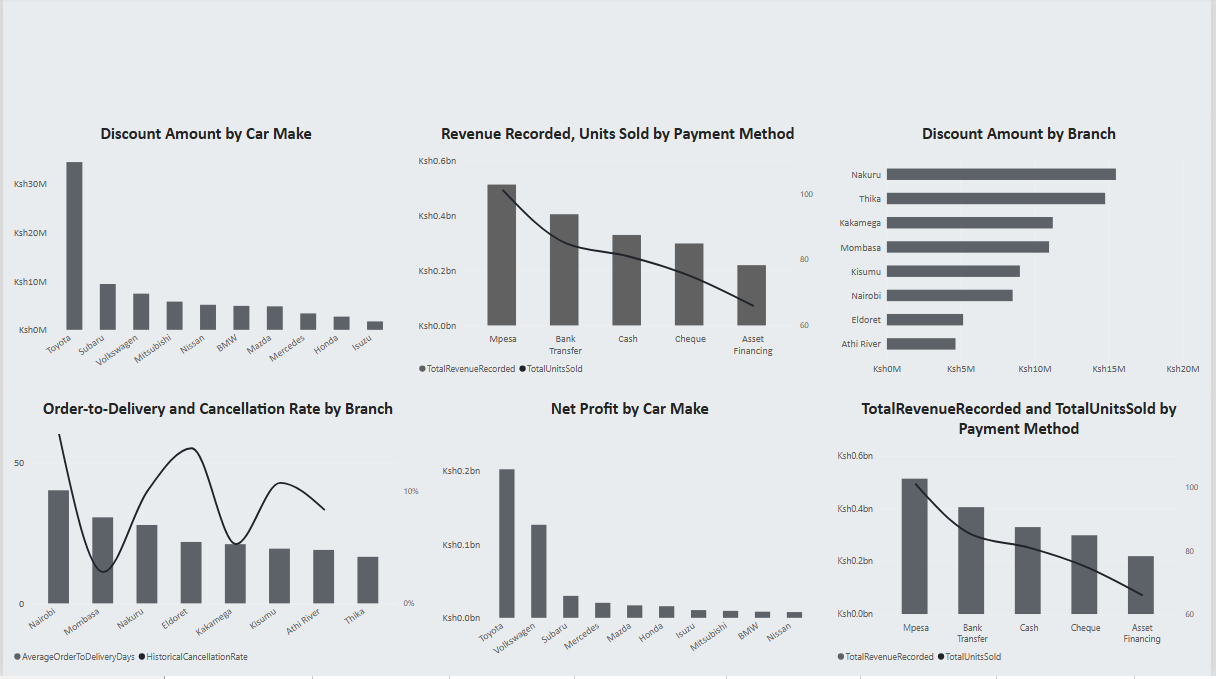

The dashboard page shown, as its layout file describes it:
{"tool":"powerbi","page":{"name":"Insights","canvas":[1920,1080],"ordinal":2},"visuals":[{"type":"clusteredColumnChart","title":"Discount Amount by Car Make","fields":{"Category":["FactOrders.Car Make"],"Y":["Sum(FactOrders.Discount Amount)"]},"box":[0,186.1,644.2,436.6],"z":0},{"type":"clusteredBarChart","title":"Discount Amount by Branch","fields":{"Category":["DimBranches.Branch"],"Y":["Sum(FactOrders.Discount Amount)"]},"box":[1309.9,186.1,610.8,436.6],"z":1000},{"type":"lineClusteredColumnComboChart","fields":{"Category":["FactOrders.Payment Method"],"Y":["FactOrders.TotalRevenueRecorded"],"Y2":["FactOrders.TotalUnitsSold"]},"box":[1309.9,622.7,610.8,458.1],"z":2000},{"type":"lineStackedColumnComboChart","title":"Revenue Recorded, Units Sold by Payment Method","fields":{"Category":["FactOrders.Payment Method"],"Y":["FactOrders.TotalRevenueRecorded"],"Y2":["FactOrders.TotalUnitsSold"]},"box":[644.2,186.1,665.7,436.6],"z":2001},{"type":"lineClusteredColumnComboChart","title":"Order-to-Delivery and Cancellation Rate by Branch","fields":{"Category":["DimBranches.Branch"],"Y":["FactOrders.AverageOrderToDeliveryDays"],"Y2":["FactOrders.HistoricalCancellationRate"]},"box":[0,622.7,682.4,458.1],"z":2002},{"type":"clusteredColumnChart","title":"Net Profit by Car Make","fields":{"Category":["FactOrders.Car Make"],"Y":["FactOrders.TotalNetProfit"]},"box":[682.4,622.7,627.5,458.1],"z":2003}]}

Visuals, with their boxes in screenshot pixels (x1, y1, x2, y2), scaled from the page's 1920x1080 canvas onto the 1216x679 screenshot:
"Discount Amount by Car Make" clusteredColumnChart: rect(0, 117, 408, 391)
"Discount Amount by Branch" clusteredBarChart: rect(830, 117, 1215, 391)
lineClusteredColumnComboChart - FactOrders.Payment Method x FactOrders.TotalRevenueRecorded: rect(830, 391, 1215, 678)
"Revenue Recorded, Units Sold by Payment Method" lineStackedColumnComboChart: rect(408, 117, 830, 391)
"Order-to-Delivery and Cancellation Rate by Branch" lineClusteredColumnComboChart: rect(0, 391, 432, 678)
"Net Profit by Car Make" clusteredColumnChart: rect(432, 391, 830, 678)
